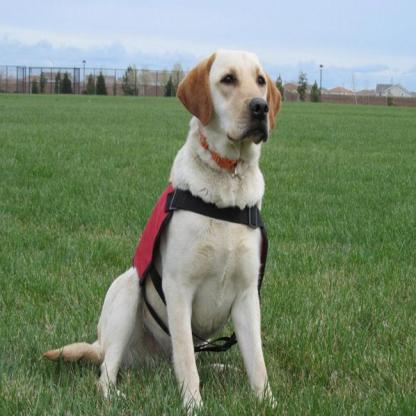dog: (44, 46, 285, 410)
